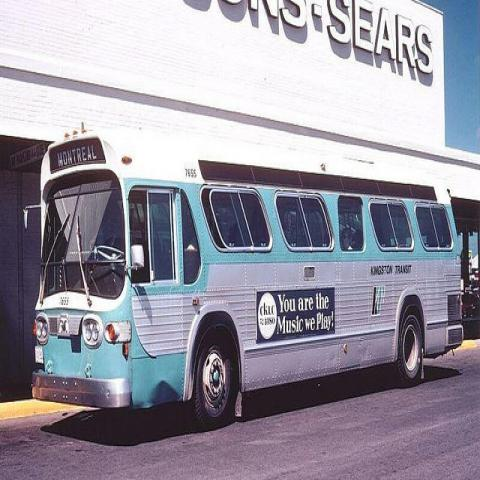bus: (29, 131, 470, 441)
